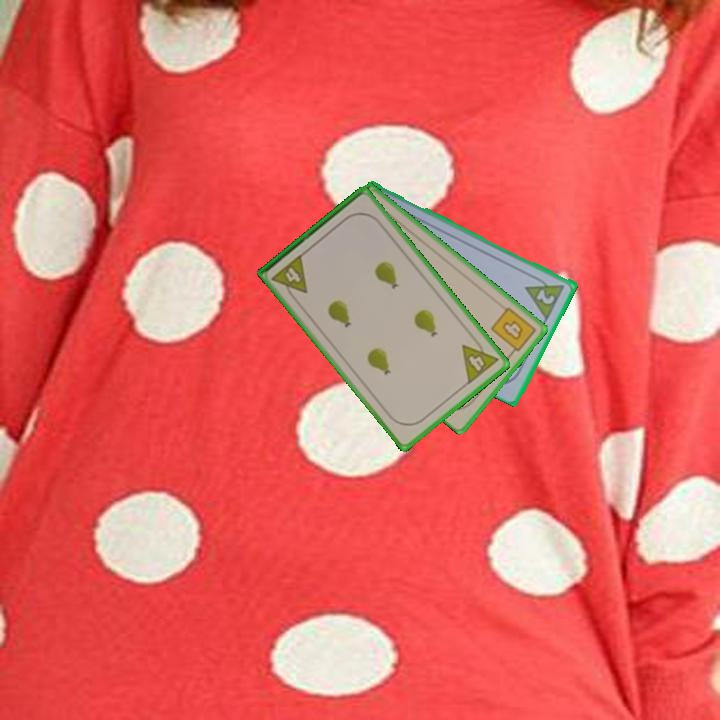2p: (522, 271, 568, 322)
4b: (487, 303, 539, 359)
4p: (458, 333, 501, 387), (268, 250, 311, 303)
